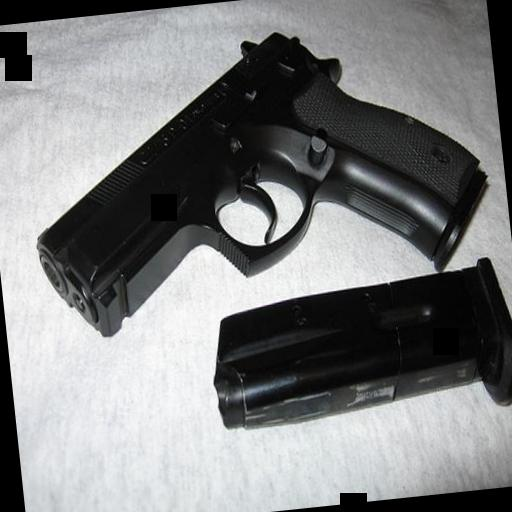Handgun: (12, 10, 500, 342)
